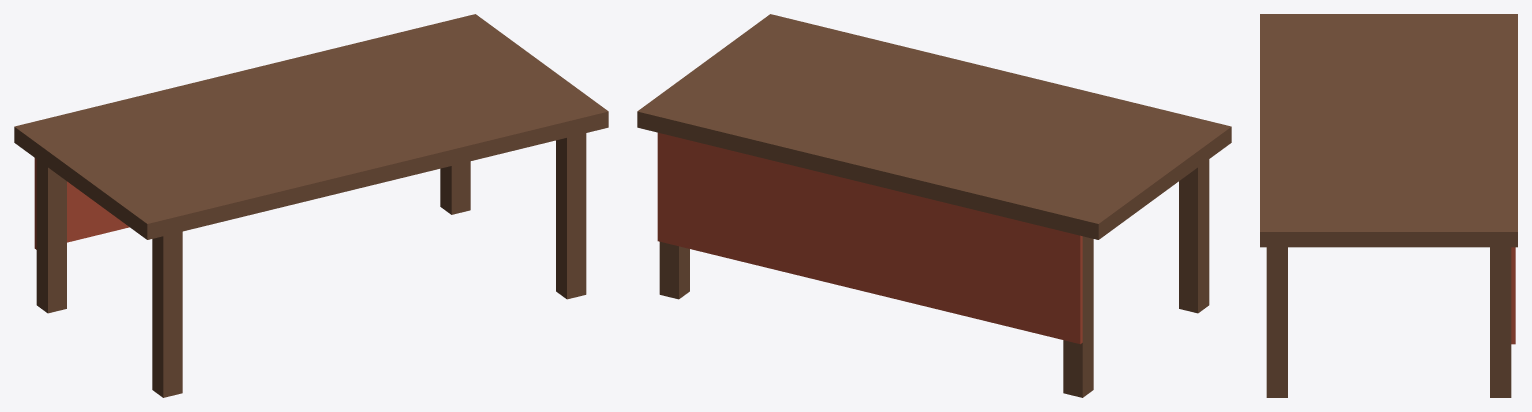
File: prop_stall_4_table.glb
3 views of the same model, side by side, from view 1: azimuth 30°, elevation 25°; view 2: azimuth 150°, elevation 25°; view 3: azimuth 270°, elevation 25° (orthographic). The views are drawn at different scales.
Parts seen in each view (by area): view 1: PROP_Stall_4_Table; view 2: PROP_Stall_4_Table; view 3: PROP_Stall_4_Table.
Part boxes in pixels (bbox=[...]): PROP_Stall_4_Table: bbox=[14, 14, 608, 397]; PROP_Stall_4_Table: bbox=[637, 14, 1231, 397]; PROP_Stall_4_Table: bbox=[1260, 14, 1517, 397].
Size of the model in its own units: 2.4 by 0.9 by 1.2.
